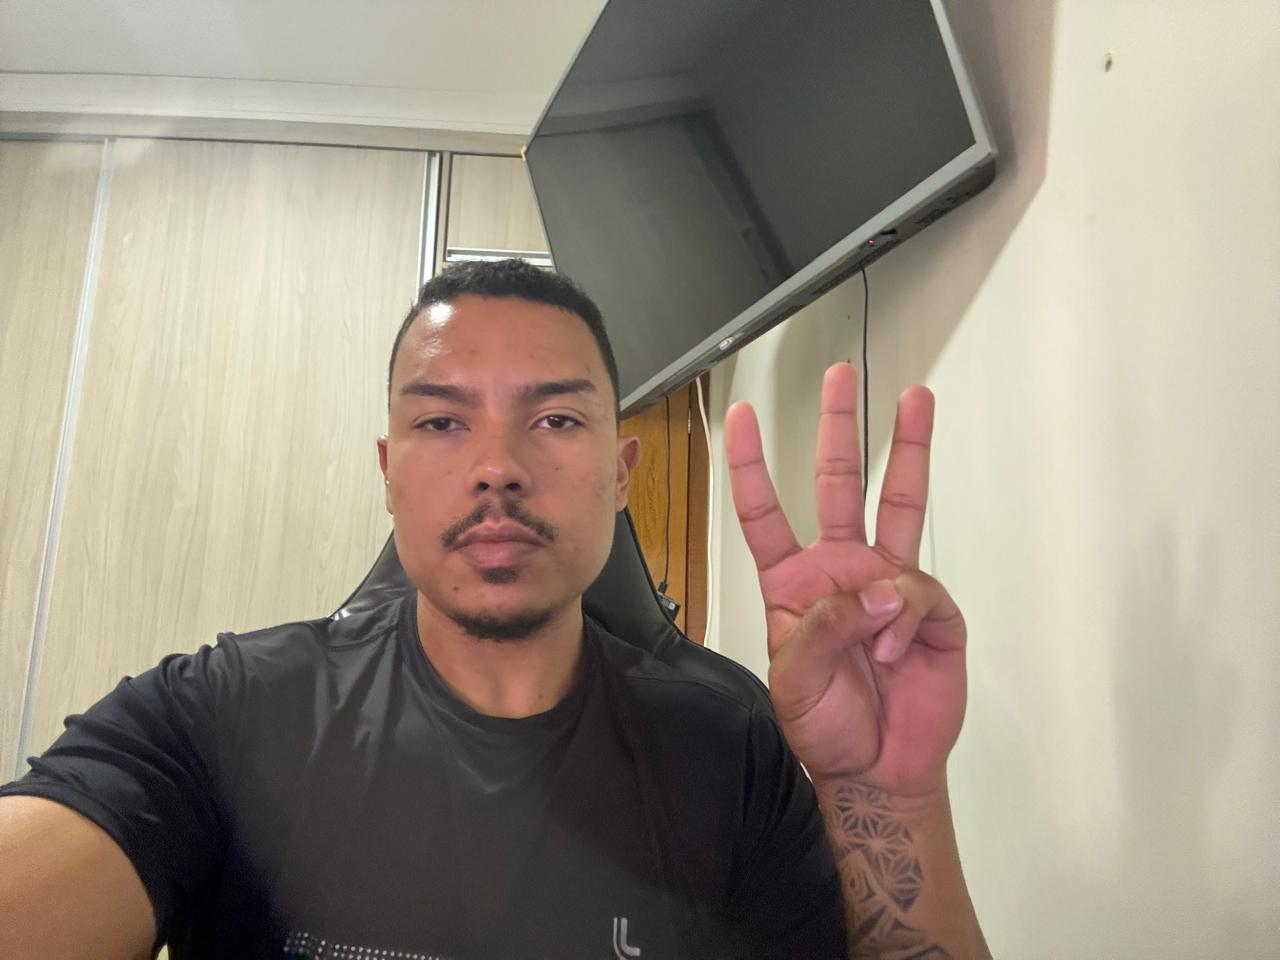w: (703, 348, 976, 803)
